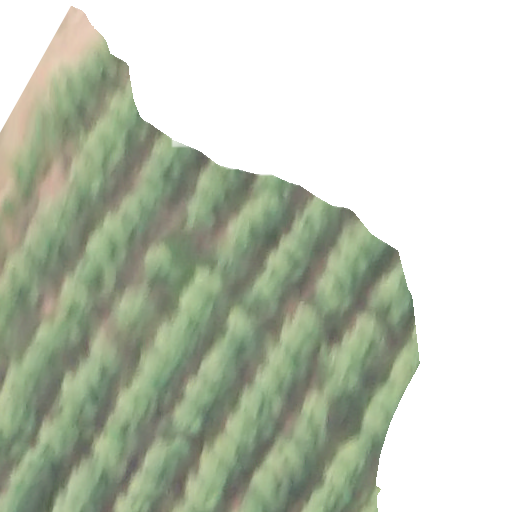eucalipto: (44, 61, 105, 110), (83, 121, 135, 175), (371, 271, 414, 332), (23, 222, 73, 272), (69, 155, 120, 201), (325, 244, 372, 292), (110, 93, 152, 145), (143, 156, 189, 203), (201, 441, 246, 489), (298, 196, 337, 251), (5, 254, 43, 310), (343, 318, 390, 363), (225, 410, 278, 449), (113, 286, 156, 334), (269, 442, 312, 490), (32, 104, 87, 141), (314, 271, 354, 320), (145, 241, 188, 286), (347, 218, 388, 265), (291, 417, 335, 460), (14, 451, 55, 497), (71, 258, 118, 298), (42, 195, 90, 234), (266, 245, 310, 287), (156, 326, 203, 365), (241, 385, 288, 424), (327, 357, 368, 400), (248, 470, 292, 510), (42, 416, 80, 462), (275, 323, 319, 362), (75, 50, 125, 84), (59, 386, 99, 428), (244, 194, 286, 233), (289, 302, 324, 348), (69, 466, 111, 504), (263, 344, 297, 390), (21, 343, 63, 380), (215, 436, 258, 472), (96, 438, 130, 483), (244, 284, 284, 322), (88, 234, 130, 270), (76, 364, 112, 406), (225, 307, 261, 349), (216, 240, 252, 281), (185, 193, 223, 231), (109, 417, 146, 456), (200, 354, 237, 393), (185, 477, 226, 512), (304, 396, 345, 431), (61, 282, 94, 324), (91, 338, 124, 380), (324, 457, 364, 491), (148, 448, 185, 484), (171, 403, 210, 437), (102, 210, 138, 246), (144, 356, 180, 392), (181, 291, 218, 326), (120, 196, 158, 230), (235, 218, 269, 256), (192, 266, 227, 302), (303, 486, 350, 512), (124, 393, 160, 426), (184, 384, 221, 414), (40, 324, 72, 356)
